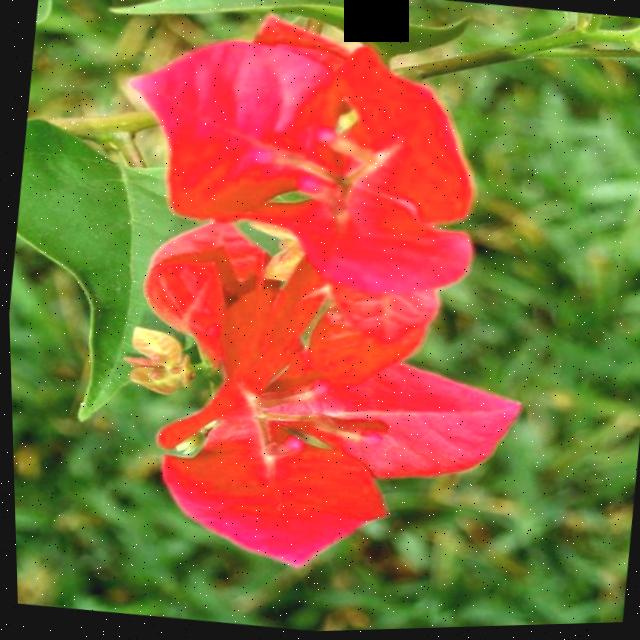bougainvillea: (56, 217, 553, 618), (100, 0, 533, 302)
